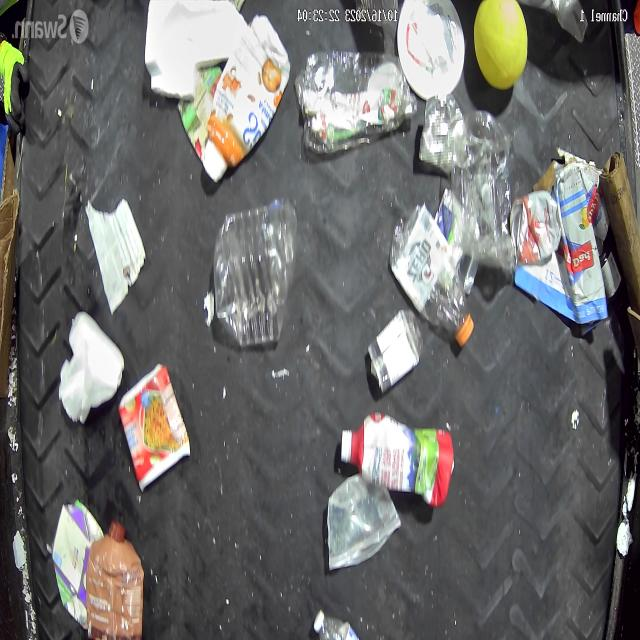can: (509, 190, 562, 264), (418, 92, 463, 178)
non_white_jug: (201, 14, 290, 184)
plastic_bottle: (215, 196, 298, 348), (294, 51, 418, 151), (388, 202, 472, 344), (86, 519, 144, 640), (311, 609, 376, 640)
